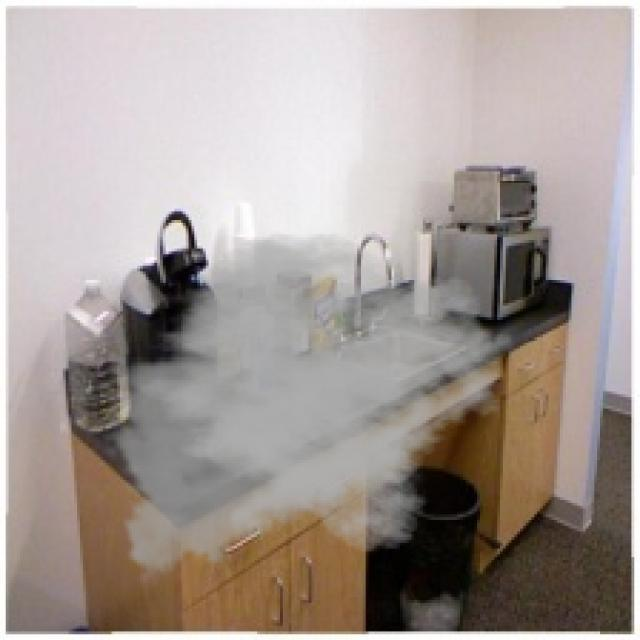Smoke: (100, 232, 517, 588)
